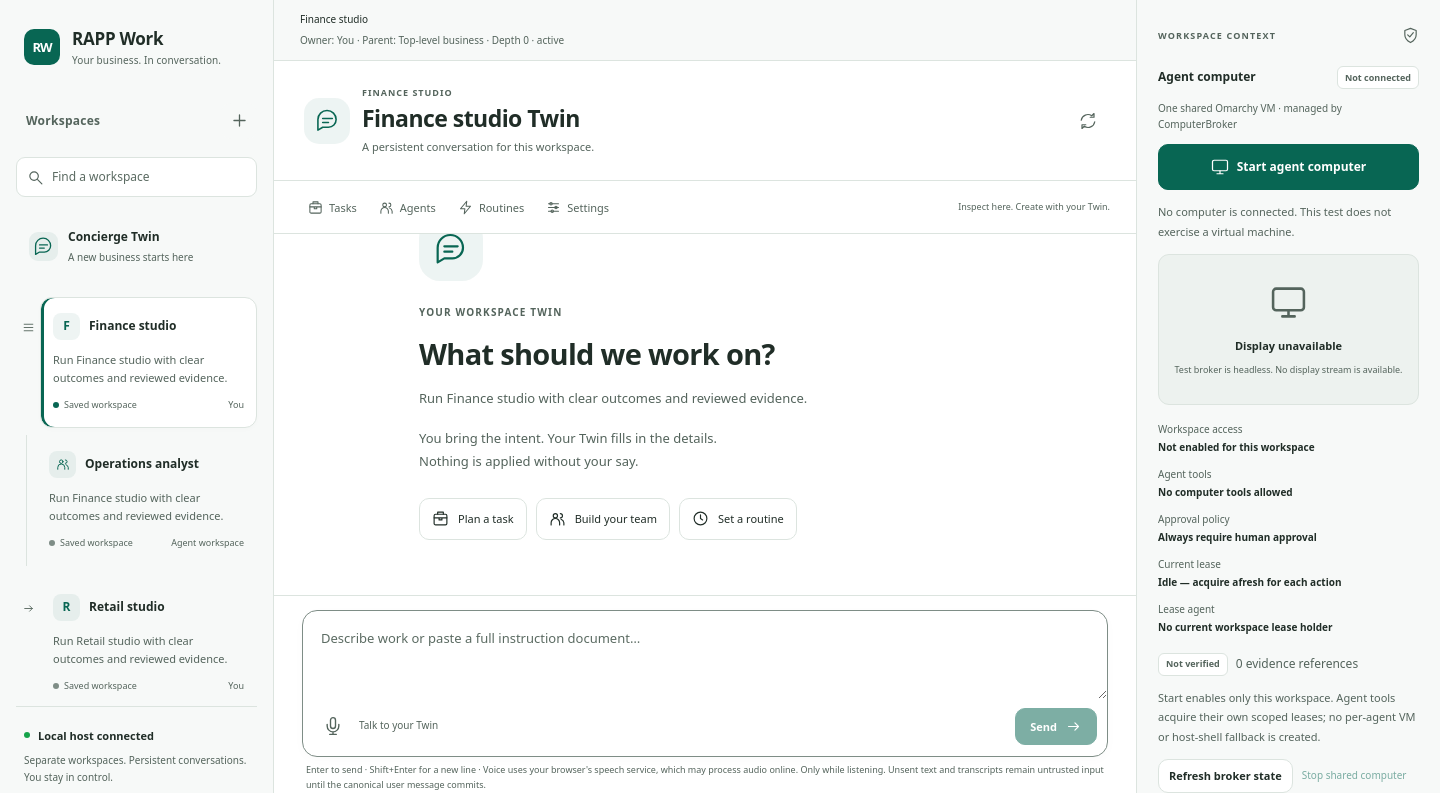
Test: foreground, user-started voice dictation › does not claim a transcript when permission or the speech service fails
The width and height of the screenshot is (1440, 793).
(page scrolled)
Check: the heading "Finance studio Twin" is shown, box [362, 103, 594, 134]
Click the button named "Start voice dictation".
click(333, 726)  # box [313, 706, 353, 746]
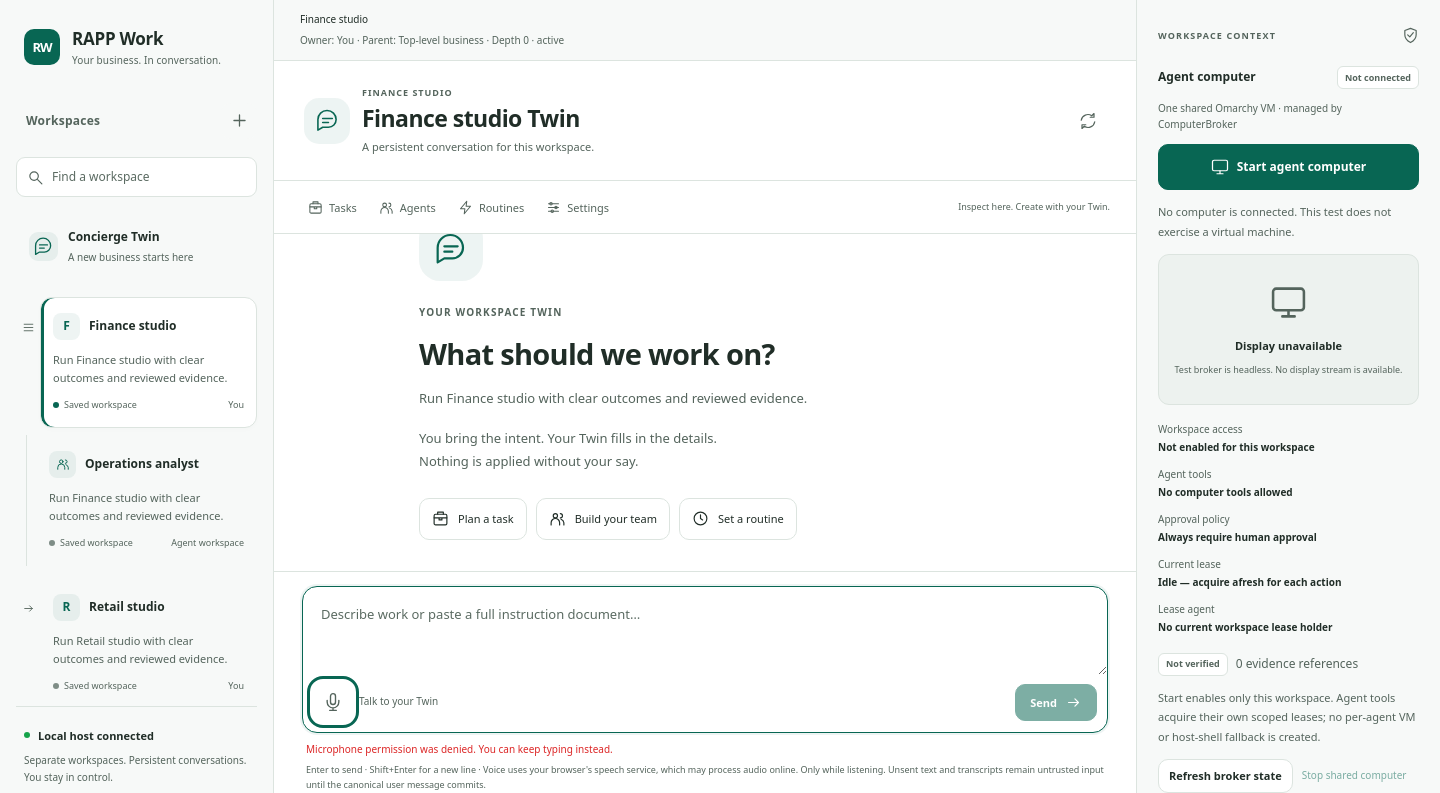
Check: the text box named "Message your Work Twin" is empty, box [303, 587, 1107, 675]
Check: the message shows "Microphone permission was denied", box [306, 742, 613, 756]
